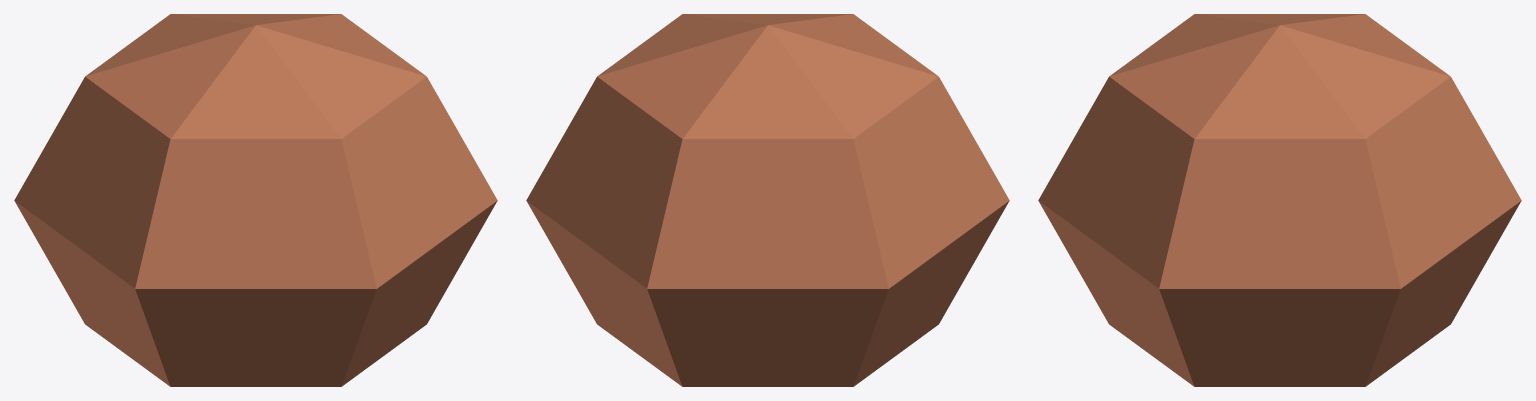
File: dust.glb
3 renders of one model, left to right at view 1: azimuth 30°, elevation 25°; view 2: azimuth 150°, elevation 25°; view 3: azimuth 270°, elevation 25°, orthographic.
Visible parts, largest first — view 1: dust; view 2: dust; view 3: dust.
Boxes of the visible parts, bbox=[...] form: dust: bbox=[14, 14, 497, 386]; dust: bbox=[526, 14, 1009, 386]; dust: bbox=[1038, 14, 1521, 386].
Bounding box in the file's own units: 0.6928 × 0.64 × 0.8.
